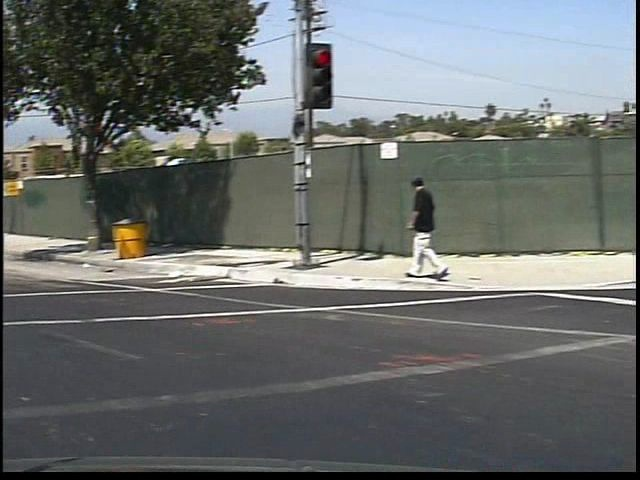person: (388, 159, 442, 286)
